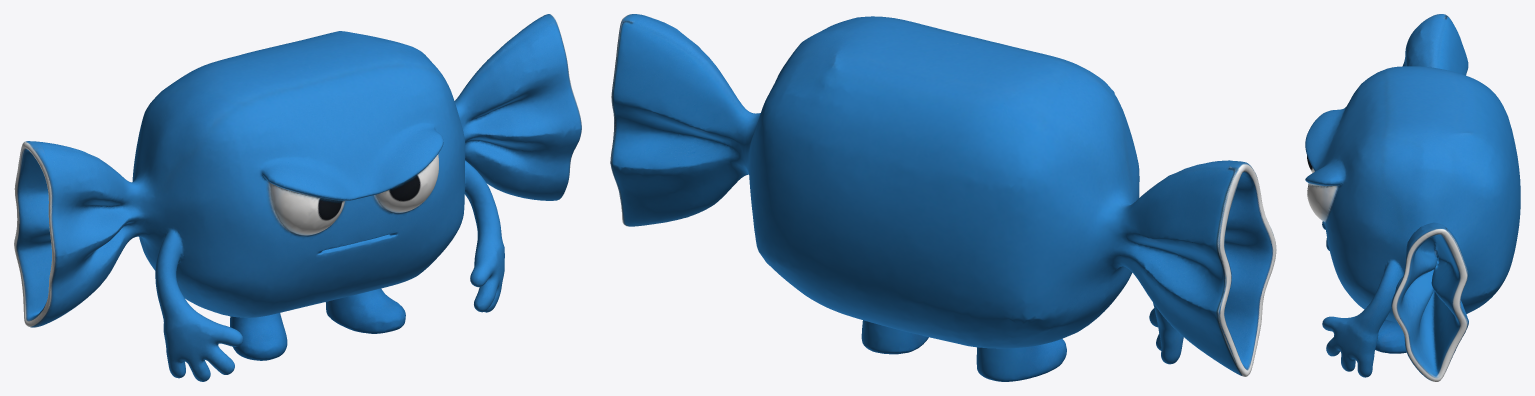
The model's file is blue_minion.glb.
The picture shows the model from 3 angles, left to right: view 1: azimuth 30°, elevation 25°; view 2: azimuth 150°, elevation 25°; view 3: azimuth 270°, elevation 25°; orthographic projection. The views are drawn at different scales.
Parts seen in each view (by area): view 1: mesh_node; view 2: mesh_node; view 3: mesh_node.
Boxes of the visible parts, x1,y1,x2,y2 form: mesh_node: (14,14,581,381); mesh_node: (610,14,1276,381); mesh_node: (1305,14,1520,381).
Size of the model in its own units: 1.9 by 0.912 by 0.7914.
Materials: 1 (1 with a texture image).
